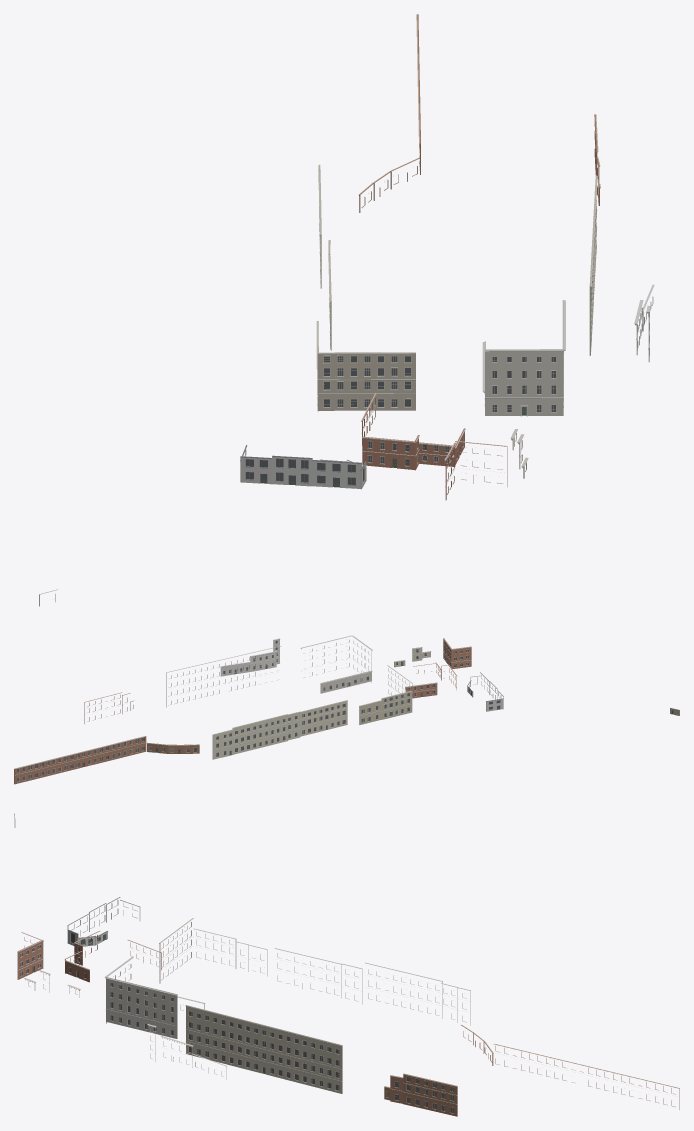
The picture shows the model from 3 angles, top to bottom: view 1: azimuth 30°, elevation 25°; view 2: azimuth 150°, elevation 25°; view 3: azimuth 270°, elevation 25°; orthographic projection. The views are drawn at different scales.
Visible parts, largest first — view 1: f:way/137147883, f:way/137147875, f:way/137147878, f:way/137147879, f:way/3986793, f:way/3986794; view 2: f:way/3986793, f:way/3986794, f:way/137147883, f:way/137147875, f:way/39185760, f:way/137147882, f:way/137147879, f:way/137147878, f:way/137147874; view 3: f:way/3986793, f:way/137147875, f:way/3986794, f:way/137147883, f:way/137147882, f:way/137147878, f:way/137147879.
Part boxes in pixels (bbox=[...]): f:way/137147883: bbox=[316, 321, 415, 411]; f:way/137147875: bbox=[482, 300, 565, 416]; f:way/137147878: bbox=[240, 445, 366, 489]; f:way/137147879: bbox=[361, 393, 465, 470]; f:way/3986793: bbox=[318, 164, 597, 355]; f:way/3986794: bbox=[358, 14, 600, 212]; f:way/3986793: bbox=[166, 646, 347, 759]; f:way/3986794: bbox=[14, 692, 199, 784]; f:way/137147883: bbox=[359, 665, 412, 724]; f:way/137147875: bbox=[301, 635, 372, 693]; f:way/39185760: bbox=[220, 638, 279, 676]; f:way/137147882: bbox=[443, 638, 471, 668]; f:way/137147879: bbox=[405, 662, 457, 698]; f:way/137147878: bbox=[467, 672, 503, 711]; f:way/137147874: bbox=[394, 647, 431, 667]; f:way/3986793: bbox=[185, 948, 470, 1093]; f:way/137147875: bbox=[104, 957, 205, 1038]; f:way/3986794: bbox=[384, 1024, 679, 1116]; f:way/137147883: bbox=[159, 918, 267, 983]; f:way/137147882: bbox=[17, 932, 43, 979]; f:way/137147878: bbox=[67, 897, 140, 946]; f:way/137147879: bbox=[65, 931, 161, 982].
Bounding box in the file's own units: 224 × 17.06 × 211.
